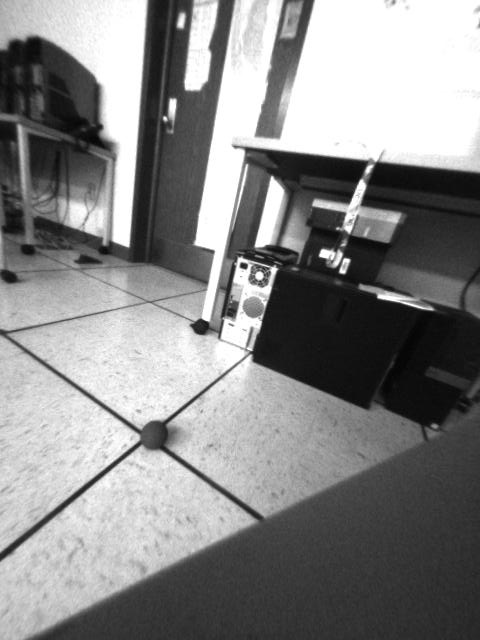dogtoy: (134, 413, 179, 458)
